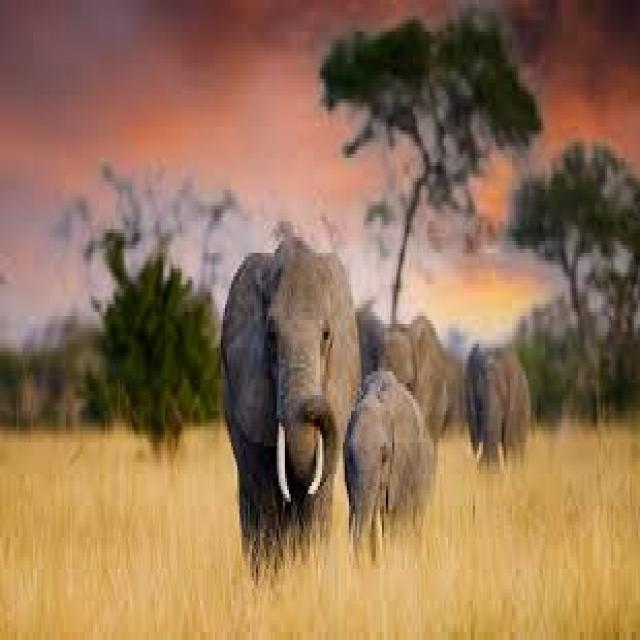Animal: (211, 214, 363, 592), (338, 289, 446, 592), (458, 316, 562, 493)
Forest: (0, 0, 640, 640)
